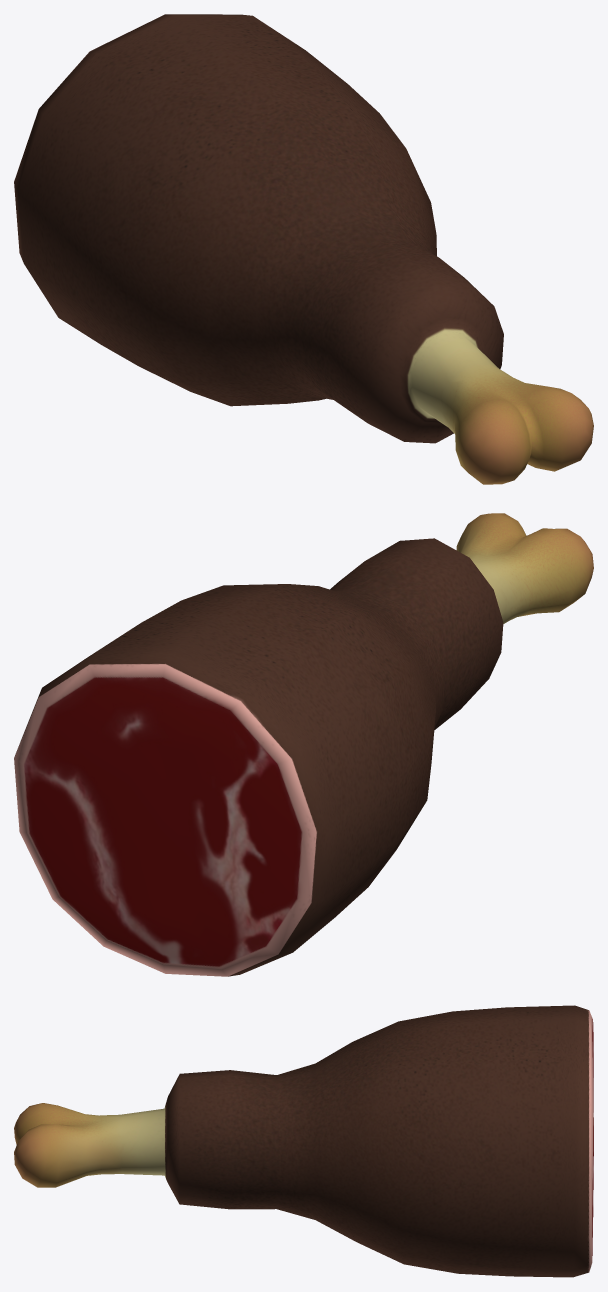
The model's file is Meat.fbx.
The picture shows the model from 3 angles, top to bottom: view 1: azimuth 30°, elevation 25°; view 2: azimuth 150°, elevation 25°; view 3: azimuth 270°, elevation 25°; orthographic projection. The views are drawn at different scales.
Visible parts, largest first — view 1: Meat1; view 2: Meat1; view 3: Meat1.
Part boxes in pixels (x1,y1,x2,y2): Meat1: (14,14,593,484); Meat1: (14,513,593,976); Meat1: (14,1005,593,1277).
Bounding box in the file's own units: 0.0134 × 0.013 × 0.0281.
Materials: 1 (1 with a texture image).
